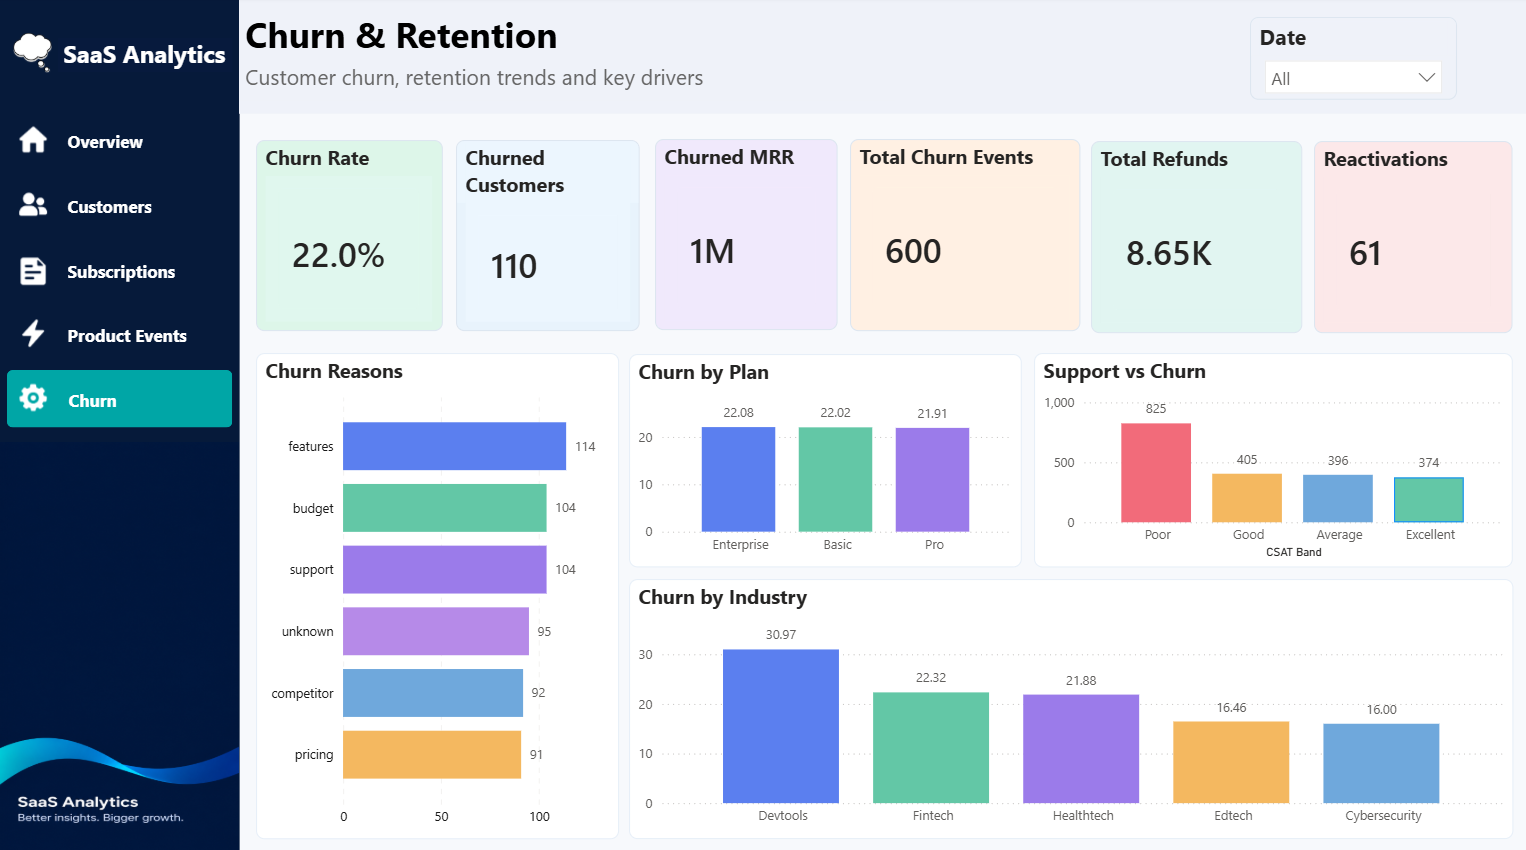

This screenshot's page, from the dashboard's own definition file:
{"tool":"powerbi","page":{"name":"Churn ","canvas":[1440,810],"ordinal":4},"visuals":[{"type":"shape","box":[0,0,227.6,809.9],"z":0},{"type":"textbox","title":"SaaS Analytics","box":[56.6,38.8,164,31.8],"z":1000},{"type":"image","box":[8.9,33.8,47.7,36.8],"z":2000},{"type":"shape","box":[8.8,351.4,212.2,54.2],"z":3000},{"type":"pageNavigator","box":[40.7,110.3,164,295.2],"z":4000},{"type":"actionButton","box":[13.9,174.9,100.4,39.8],"z":5000},{"type":"actionButton","box":[13.9,110.3,100.4,48.7],"z":6000},{"type":"actionButton","box":[13.9,238.5,100.4,39.8],"z":7000},{"type":"actionButton","box":[14.1,296.4,100.8,39.8],"z":8000},{"type":"image","box":[0,419.5,227.3,390.2],"z":9000},{"type":"actionButton","box":[14.1,352.7,100.8,50.4],"z":10000},{"type":"textbox","box":[227.3,0,1212.7,110.1],"z":11000},{"type":"textbox","title":"Churn & Retention","box":[228.2,12.4,617.1,85.4],"z":11001},{"type":"slicer","title":"Date","fields":{"Values":["account_360.signup_date.Variation.Date Hierarchy.Year","account_360.signup_date.Variation.Date Hierarchy.Month"]},"box":[1179.3,19,194.7,78.3],"z":11002},{"type":"cardVisual","title":"Churn Rate","fields":{"Data":["kpis.Churn Rate All Time"]},"box":[242.5,134.7,175.8,180],"z":11003},{"type":"cardVisual","title":"Churned Customers","fields":{"Data":["account_360.Churned Customers All Time"]},"box":[431.2,134.7,173.4,180],"z":11004},{"type":"cardVisual","title":"Churned MRR","fields":{"Data":["kpis.Churned MRR"]},"box":[618.6,133.6,172.2,180],"z":11005},{"type":"cardVisual","title":"Total Churn Events","fields":{"Data":["kpis.Churn Events"]},"box":[802.1,133.5,216.7,180.5],"z":11006},{"type":"cardVisual","title":"Total Refunds","fields":{"Data":["kpis.Total Refunds"]},"box":[1029.7,135.7,199.1,180.5],"z":11007},{"type":"cardVisual","title":"Reactivations","fields":{"Data":["kpis.Reactivations"]},"box":[1239.8,135.7,187.1,180.5],"z":11008},{"type":"clusteredColumnChart","title":"Churn by Plan","fields":{"Category":["churn_by_plan.plan_tier"],"Y":["Sum(churn_by_plan.churn_pct)"]},"box":[594.2,335.9,369.8,201.3],"z":11009},{"type":"clusteredBarChart","title":"Churn Reasons","fields":{"Y":["Sum(churn_reasons.events)"],"Category":["churn_reasons.reason_code"]},"box":[242.9,334.8,342.5,458.5],"z":11010},{"type":"clusteredColumnChart","title":"Churn by Industry","fields":{"Category":["churn_by_industry.industry"],"Y":["Sum(churn_by_industry.churn_pct)"]},"box":[594.2,548.2,832.7,245.1],"z":11011},{"type":"clusteredColumnChart","title":"Support vs Churn","fields":{"Category":["support_tickets.CSAT Band"],"Y":["CountNonNull(support_tickets.resolution_time_hours)"]},"box":[976,334.8,450.8,202.4],"z":11012}]}

Visuals, with their boxes on the page's 1440x810 design canvas (x1, y1, x2, y2). These are canvas units, not pixel positions in the 1526x850 screenshot, which may show the page scaled, cropped or inside an application window:
shape: bbox=[0, 0, 228, 810]
"SaaS Analytics" textbox: bbox=[57, 39, 221, 71]
image: bbox=[9, 34, 57, 71]
shape: bbox=[9, 351, 221, 406]
pageNavigator: bbox=[41, 110, 205, 406]
actionButton: bbox=[14, 175, 114, 215]
actionButton: bbox=[14, 110, 114, 159]
actionButton: bbox=[14, 238, 114, 278]
actionButton: bbox=[14, 296, 115, 336]
image: bbox=[0, 420, 227, 810]
actionButton: bbox=[14, 353, 115, 403]
textbox: bbox=[227, 0, 1440, 110]
"Churn & Retention" textbox: bbox=[228, 12, 845, 98]
"Date" slicer: bbox=[1179, 19, 1374, 97]
"Churn Rate" cardVisual: bbox=[242, 135, 418, 315]
"Churned Customers" cardVisual: bbox=[431, 135, 605, 315]
"Churned MRR" cardVisual: bbox=[619, 134, 791, 314]
"Total Churn Events" cardVisual: bbox=[802, 134, 1019, 314]
"Total Refunds" cardVisual: bbox=[1030, 136, 1229, 316]
"Reactivations" cardVisual: bbox=[1240, 136, 1427, 316]
"Churn by Plan" clusteredColumnChart: bbox=[594, 336, 964, 537]
"Churn Reasons" clusteredBarChart: bbox=[243, 335, 585, 793]
"Churn by Industry" clusteredColumnChart: bbox=[594, 548, 1427, 793]
"Support vs Churn" clusteredColumnChart: bbox=[976, 335, 1427, 537]
